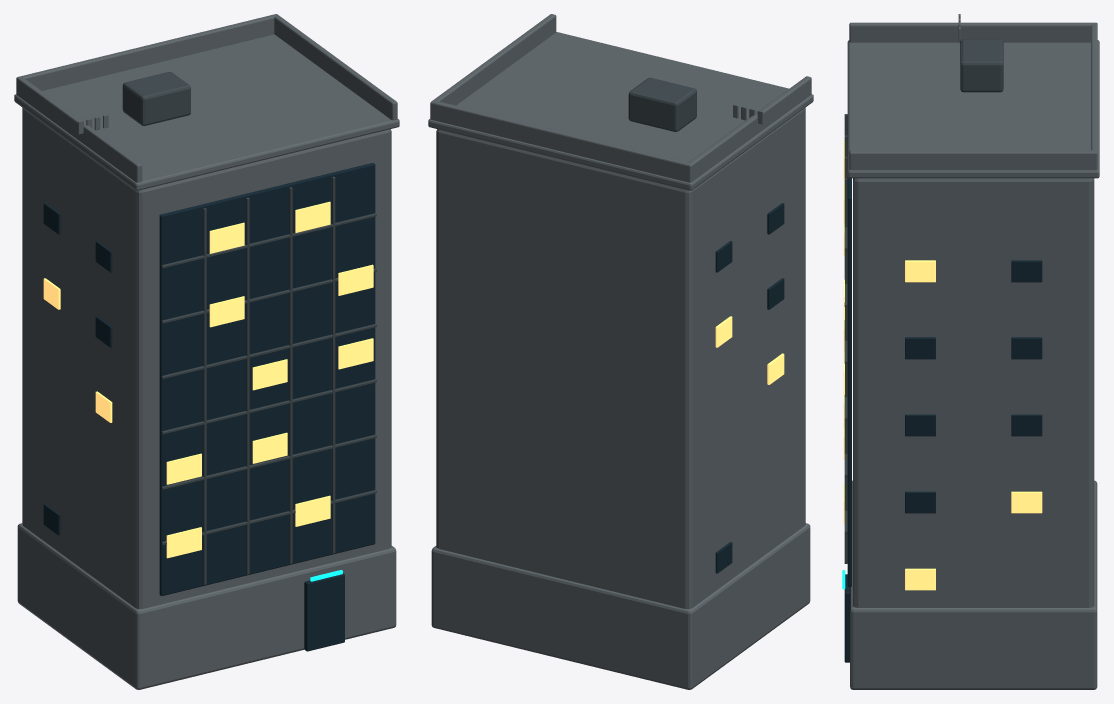
Rendered from glasshouse_a.glb.
3 views of the same model, side by side, from view 1: azimuth 30°, elevation 25°; view 2: azimuth 150°, elevation 25°; view 3: azimuth 270°, elevation 25° (orthographic). The views are drawn at different scales.
Parts seen in each view (by area): view 1: ND_Batch_structure, ND_Batch_glass, ND_Batch_metal, ND_Batch_warm; view 2: ND_Batch_structure, ND_Batch_metal, ND_Batch_glass, ND_Batch_warm; view 3: ND_Batch_structure, ND_Batch_glass, ND_Batch_metal, ND_Batch_warm.
Boxes of the visible parts, x1,y1,x2,y2 form: ND_Batch_structure: (14, 14, 399, 689); ND_Batch_glass: (43, 163, 375, 651); ND_Batch_metal: (122, 72, 376, 584); ND_Batch_warm: (43, 201, 373, 558); ND_Batch_structure: (428, 14, 813, 689); ND_Batch_metal: (628, 77, 696, 131); ND_Batch_glass: (715, 203, 784, 573); ND_Batch_warm: (715, 316, 784, 384); ND_Batch_structure: (847, 14, 1099, 689); ND_Batch_glass: (844, 177, 1042, 662); ND_Batch_metal: (844, 39, 1003, 563); ND_Batch_warm: (843, 140, 1042, 590).
Size of the model in its own units: 8.38 by 16.17 by 6.82.
